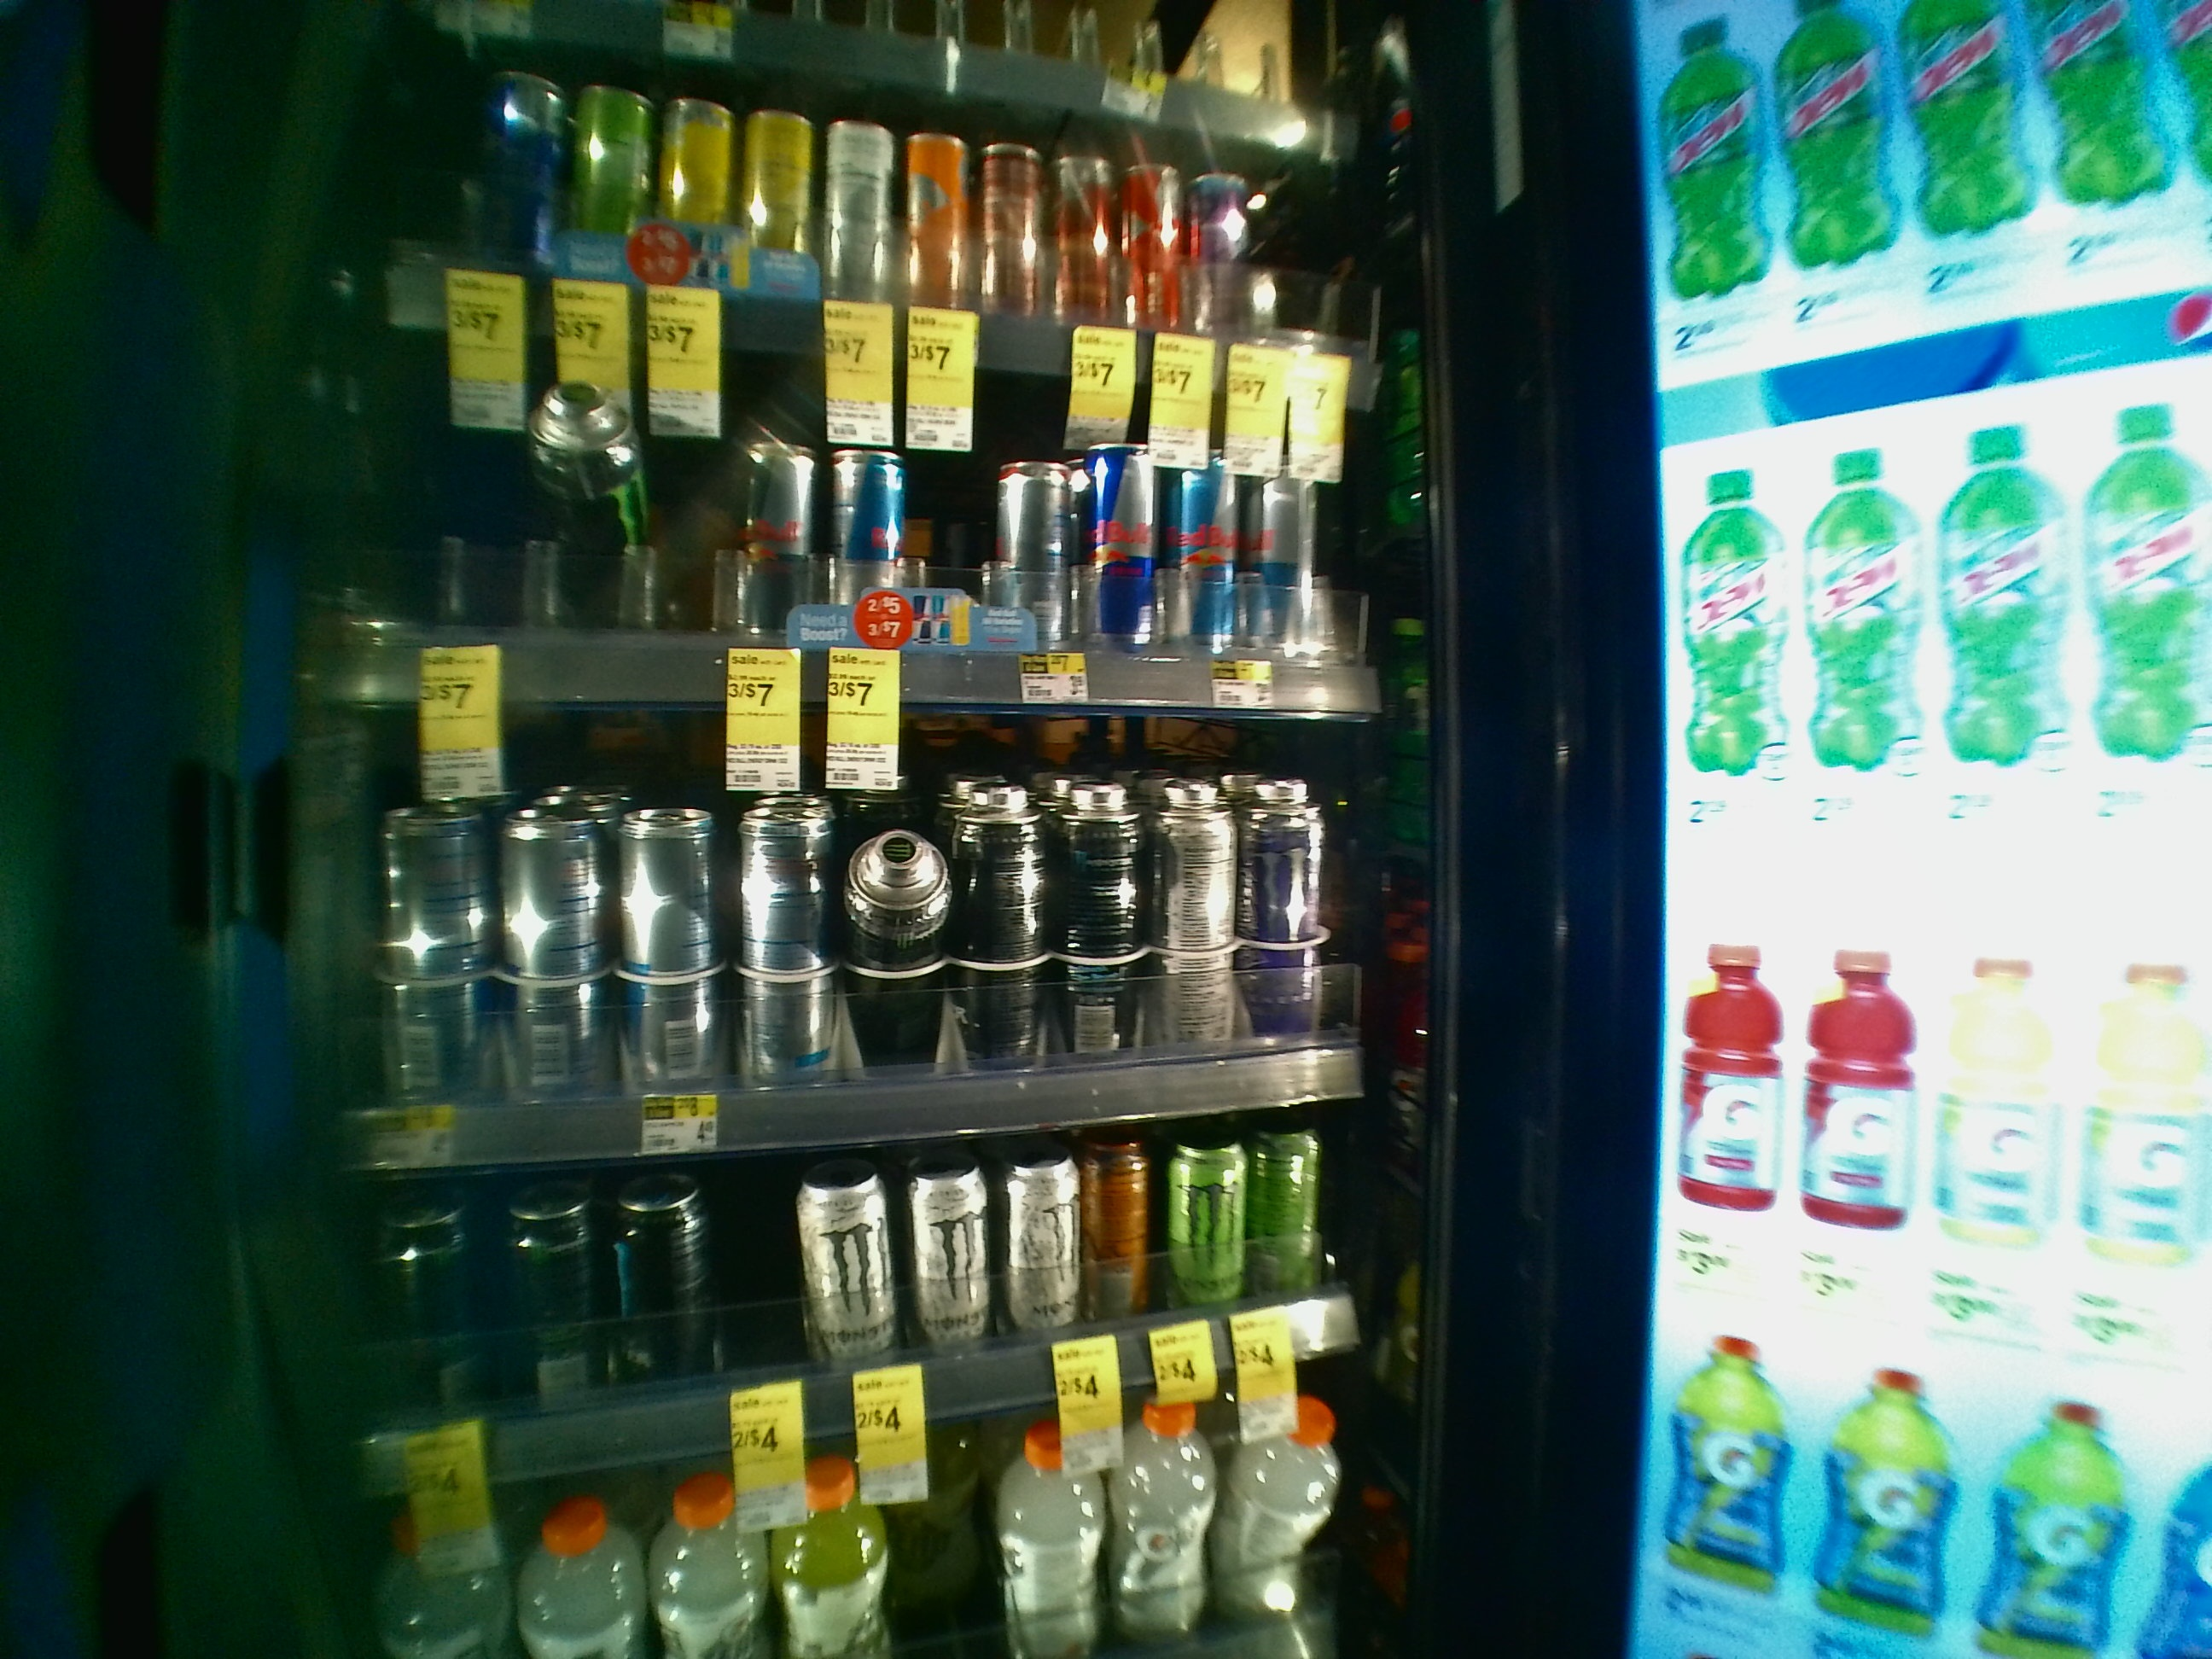shelf: (280, 697, 1477, 1133)
